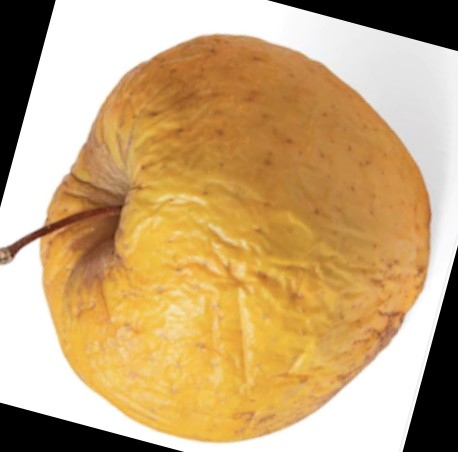rotten_apple: (40, 35, 432, 444)
